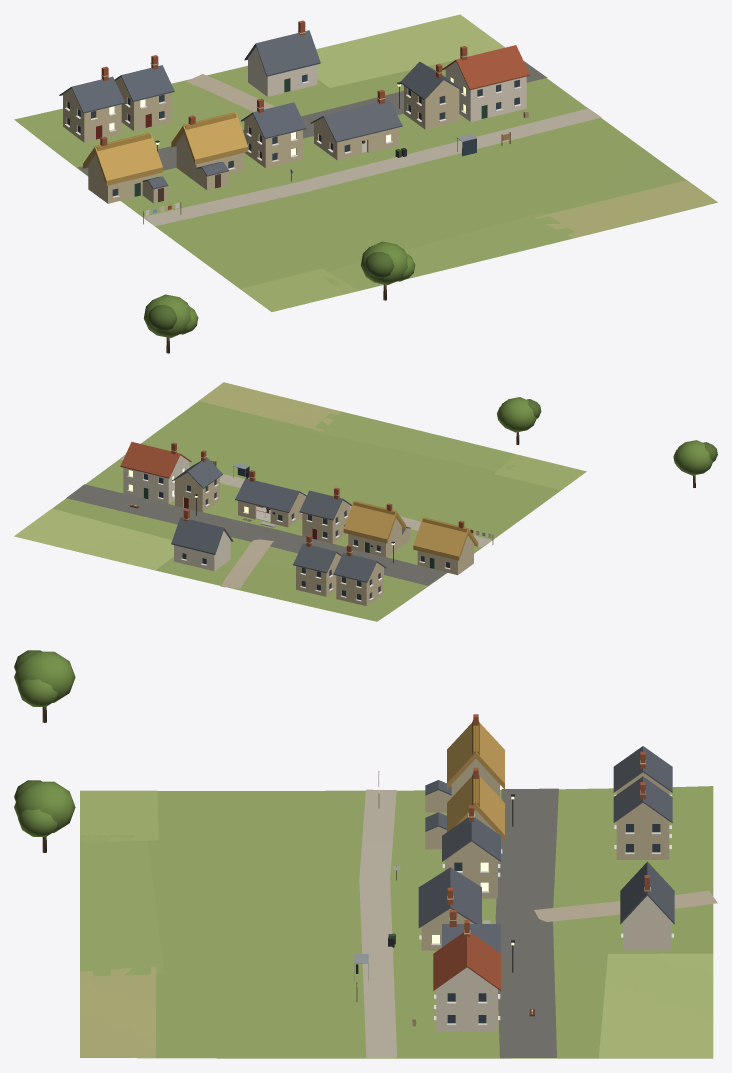
File: service_lane-morning.glb
3 renders of one model, top to bottom at view 1: azimuth 30°, elevation 25°; view 2: azimuth 150°, elevation 25°; view 3: azimuth 270°, elevation 25°, orthographic. The views are drawn at different scales.
Parts seen in each view (by area): view 1: ground, ground_areas, ground_lanes, cut_roof_rose_cottage, cut_roof_well_cottage, tea_room_shell, cut_roof_tea_room, cut_roof_forge, cut_roof_street_10, tree_60, tree_59, street_2_shell (+11 smaller); view 2: ground, ground_areas, ground_lanes, cut_roof_rose_cottage, cut_roof_well_cottage, cut_roof_tea_room, cut_roof_forge, cut_roof_street_10, tea_room_shell, tree_60, tree_59, street_2_shell (+11 smaller); view 3: ground, ground_areas, ground_lanes, tea_room_shell, tree_60, tree_59, cut_roof_tea_room, cut_roof_forge, cut_roof_rose_cottage, street_8_shell, cut_roof_well_cottage, street_10_shell (+8 smaller).
Part boxes in pixels (x1,y1,x2,y2): ground: [14, 60, 717, 311]; ground_areas: [240, 14, 717, 311]; ground_lanes: [77, 61, 601, 226]; cut_roof_rose_cottage: [83, 133, 162, 185]; cut_roof_well_cottage: [171, 112, 248, 164]; tea_room_shell: [445, 61, 526, 121]; cut_roof_tea_room: [442, 45, 529, 90]; cut_roof_forge: [310, 89, 402, 142]; cut_roof_street_10: [244, 20, 320, 76]; tree_60: [360, 241, 415, 300]; tree_59: [143, 294, 198, 353]; street_2_shell: [404, 80, 459, 129]; ground: [14, 401, 585, 621]; ground_areas: [14, 382, 586, 569]; ground_lanes: [66, 454, 491, 588]; cut_roof_rose_cottage: [413, 517, 478, 560]; cut_roof_well_cottage: [343, 501, 406, 543]; cut_roof_tea_room: [120, 442, 191, 478]; cut_roof_forge: [235, 470, 306, 512]; cut_roof_street_10: [171, 509, 233, 554]; tea_room_shell: [123, 455, 188, 503]; tree_60: [497, 397, 541, 444]; tree_59: [673, 440, 717, 487]; street_2_shell: [175, 472, 219, 512]; ground: [80, 786, 713, 1058]; ground_areas: [80, 790, 713, 1058]; ground_lanes: [359, 788, 717, 1058]; tea_room_shell: [436, 967, 497, 1030]; tree_60: [14, 780, 75, 852]; tree_59: [14, 650, 75, 722]; cut_roof_tea_room: [433, 920, 500, 990]; cut_roof_forge: [418, 867, 481, 927]; cut_roof_rose_cottage: [447, 714, 504, 789]; street_8_shell: [616, 803, 669, 859]; cut_roof_well_cottage: [447, 767, 504, 840]; street_10_shell: [623, 896, 671, 950].
Size of the model in its own units: 94.6 by 10.16 by 80.02.
